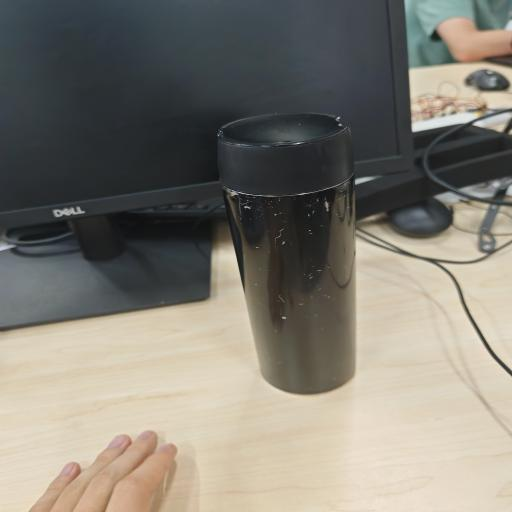mouse: (388, 198, 452, 237), (465, 70, 510, 90)
